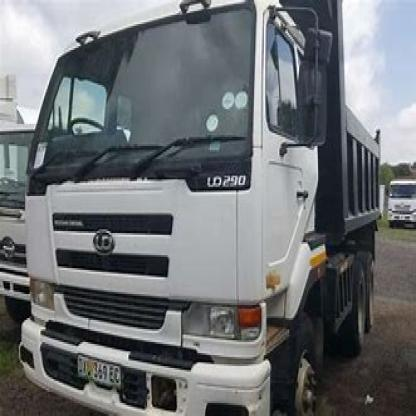dump_truck: (21, 6, 384, 410)
